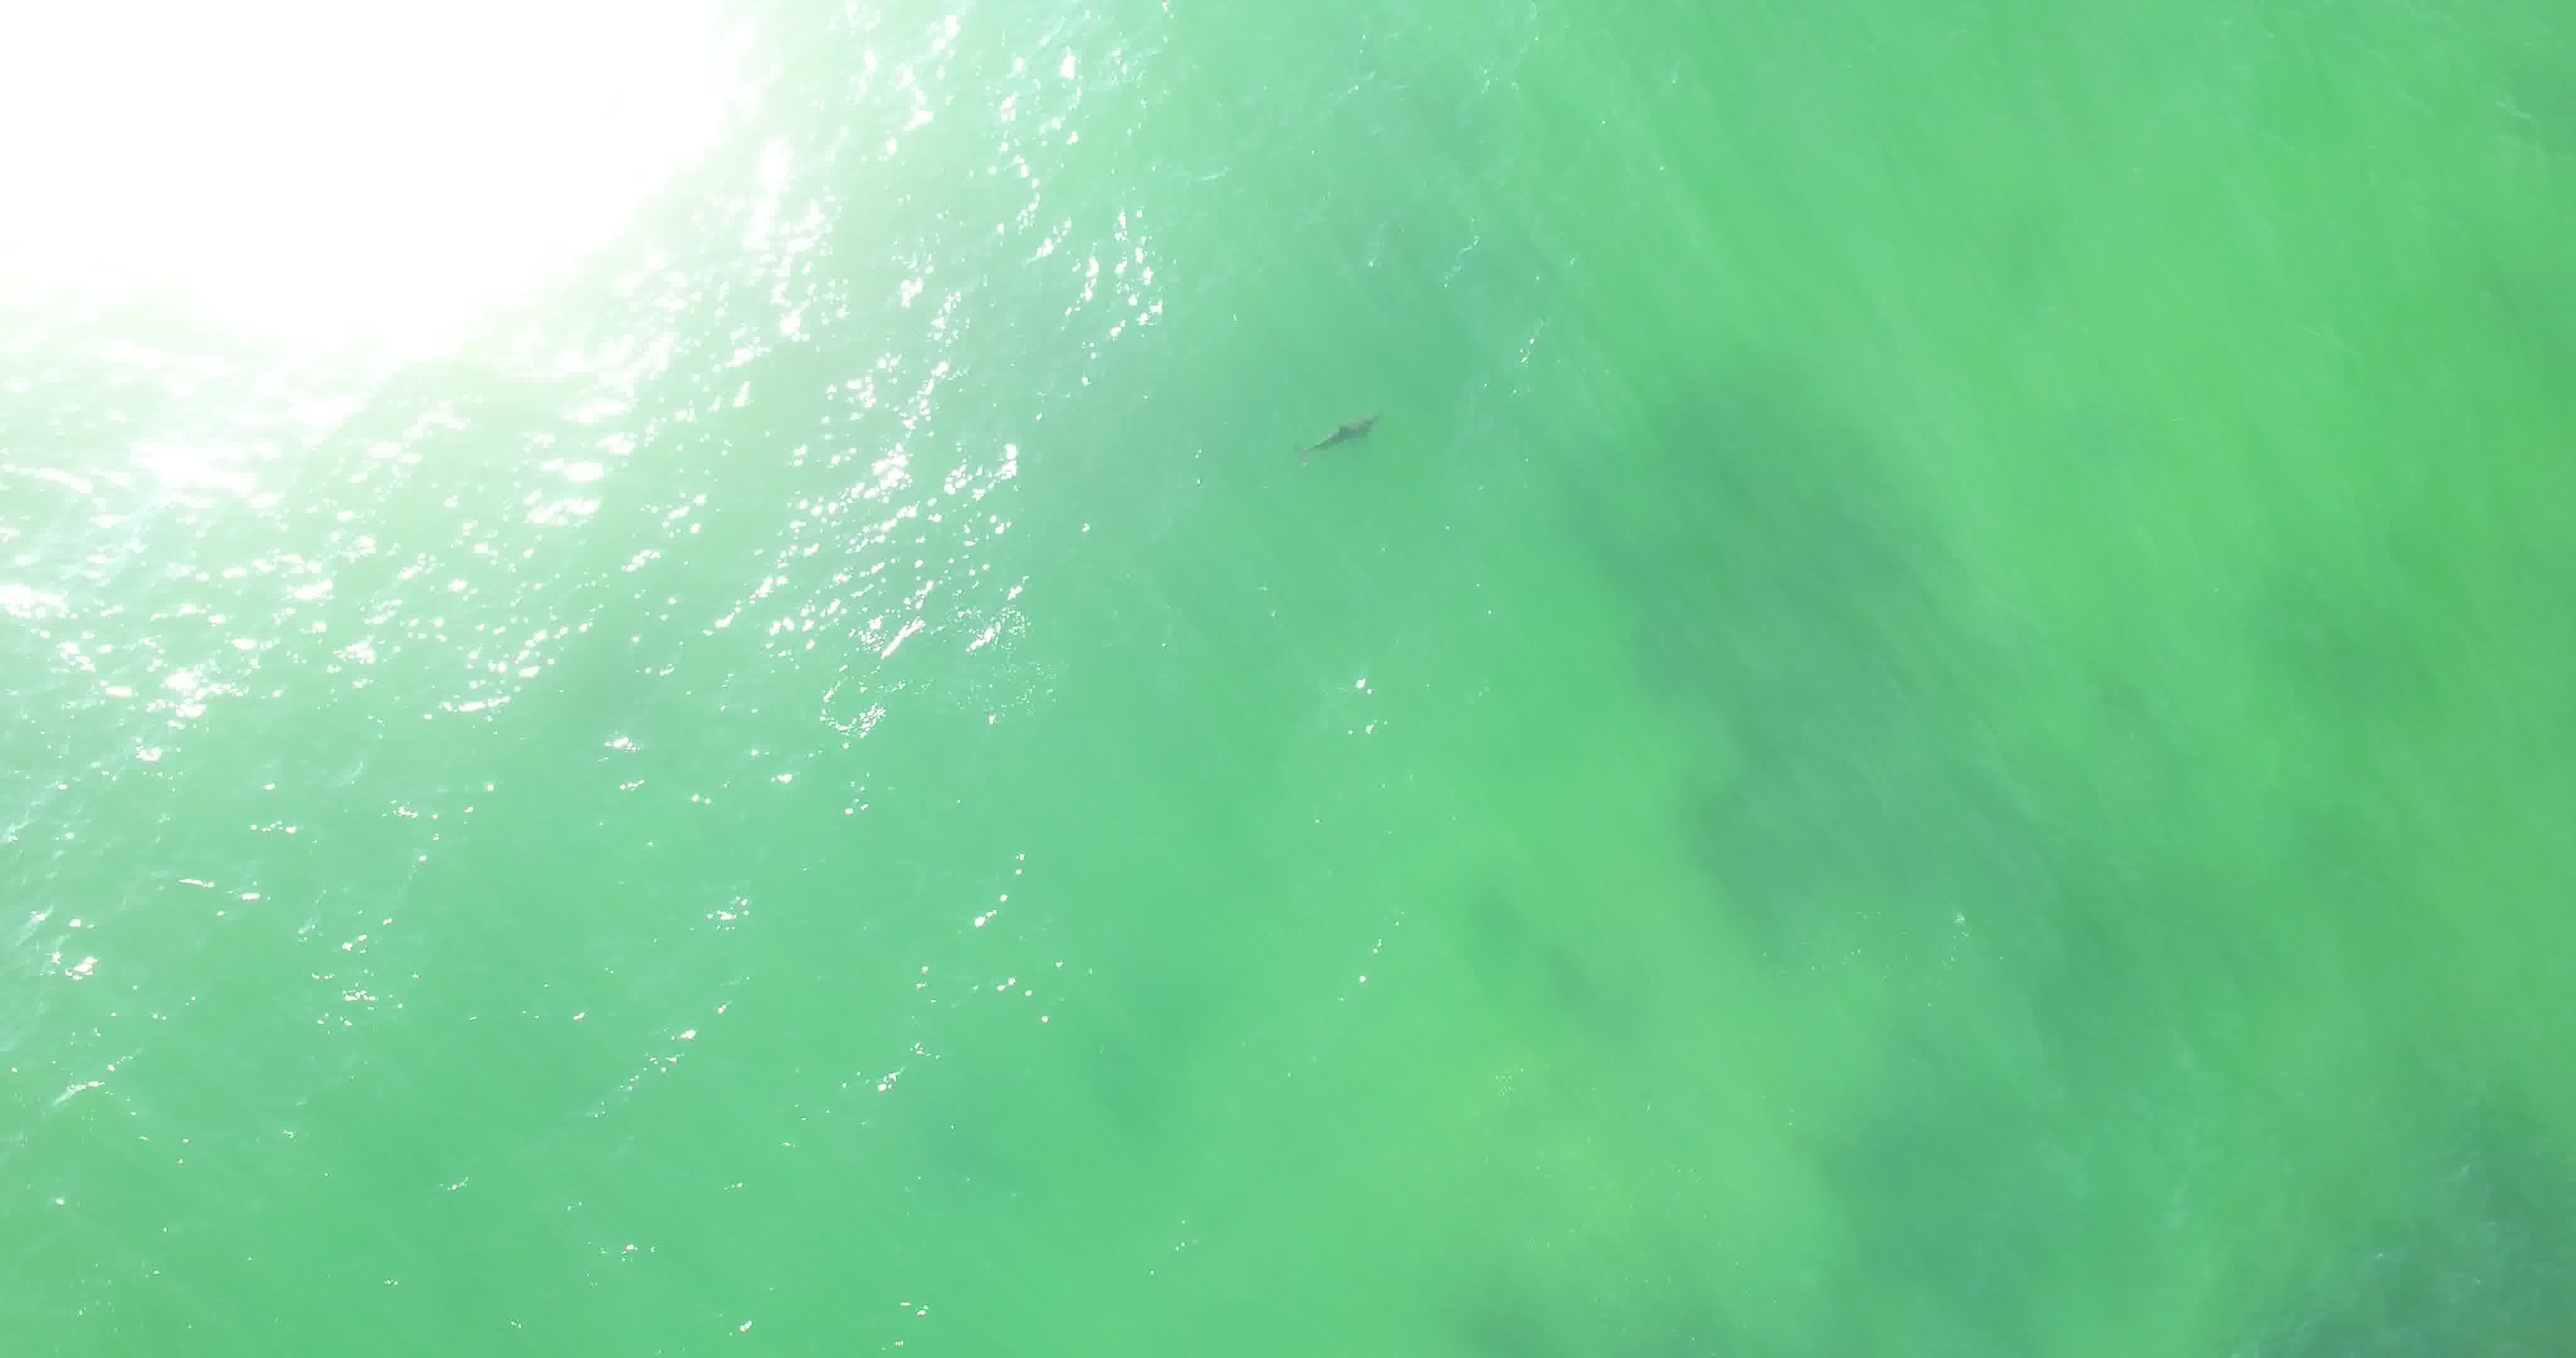dolphin: (1268, 371, 1411, 477)
